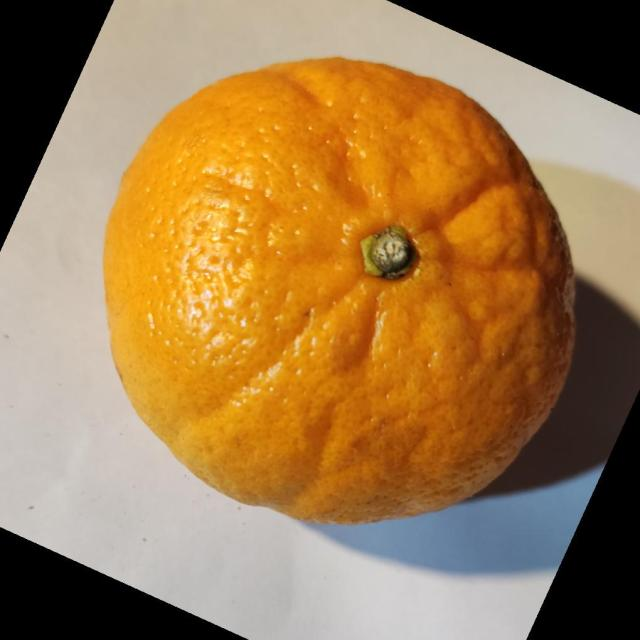fresh orange: (101, 54, 577, 526)
